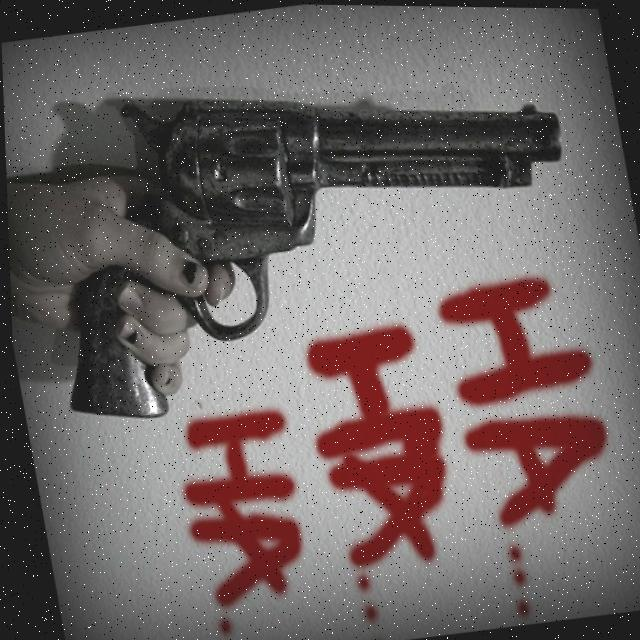pistol: (76, 33, 594, 363)
